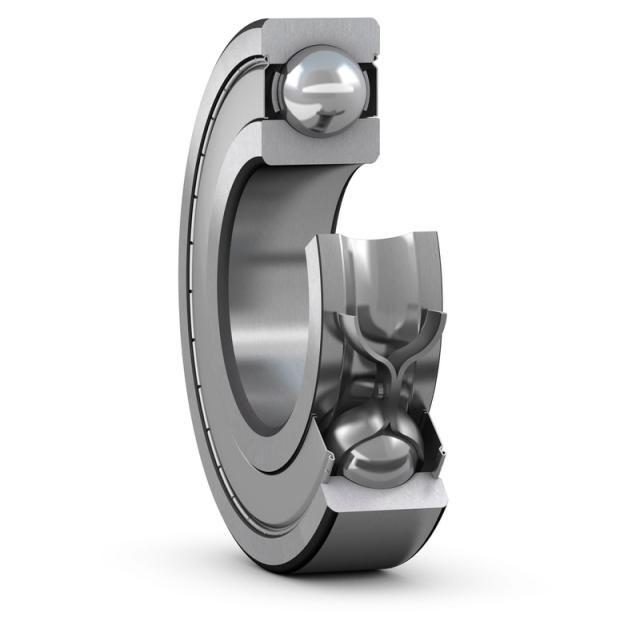Bearing: (177, 13, 453, 580)
